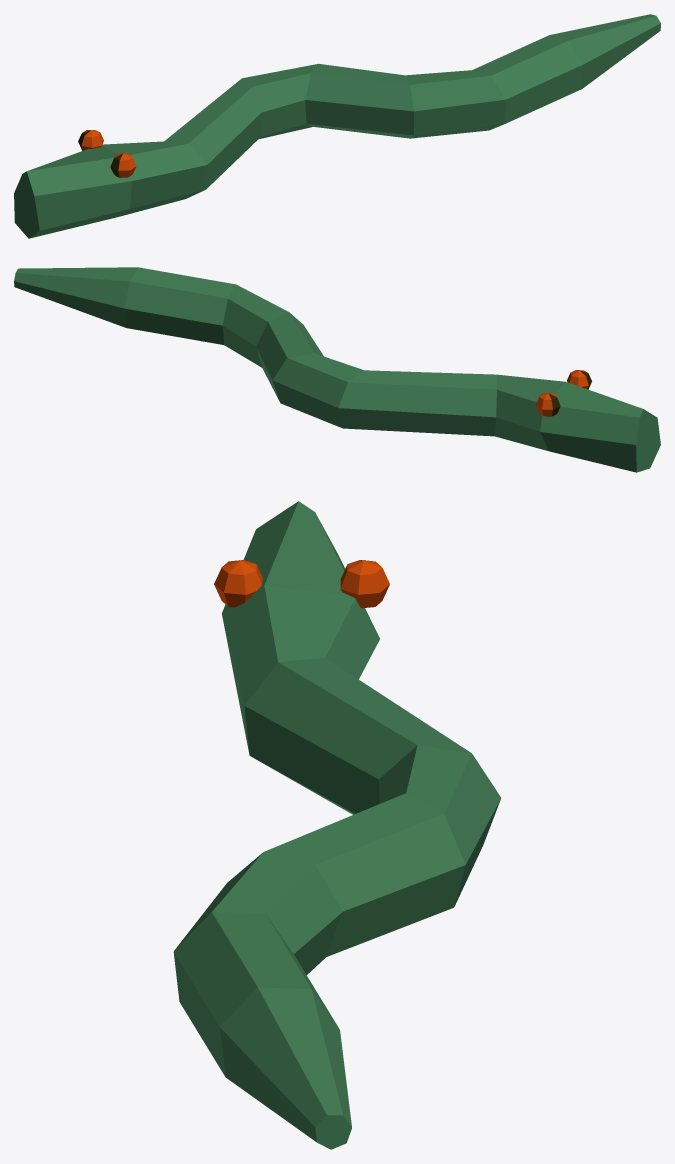
File: snek.fbx
3 views of the same model, one above another, from view 1: azimuth 30°, elevation 25°; view 2: azimuth 150°, elevation 25°; view 3: azimuth 270°, elevation 25° (orthographic). The views are drawn at different scales.
Parts seen in each view (by area): view 1: Cylinder, Sphere; view 2: Cylinder, Sphere; view 3: Cylinder, Sphere.
Boxes of the visible parts, box(x1,y1,x2,y2) form: Cylinder: box(14, 14, 660, 238); Sphere: box(78, 130, 136, 177); Cylinder: box(14, 267, 660, 472); Sphere: box(535, 370, 591, 416); Cylinder: box(173, 501, 500, 1149); Sphere: box(214, 560, 389, 608).
Size of the model in its own units: 2259 by 247 by 514.
